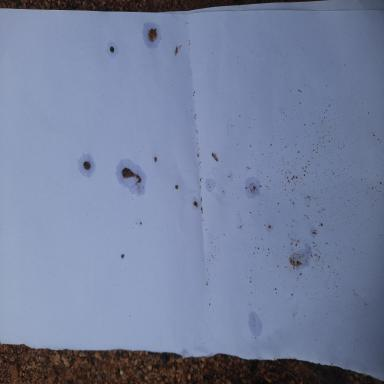pbw: (211, 152, 218, 162)
